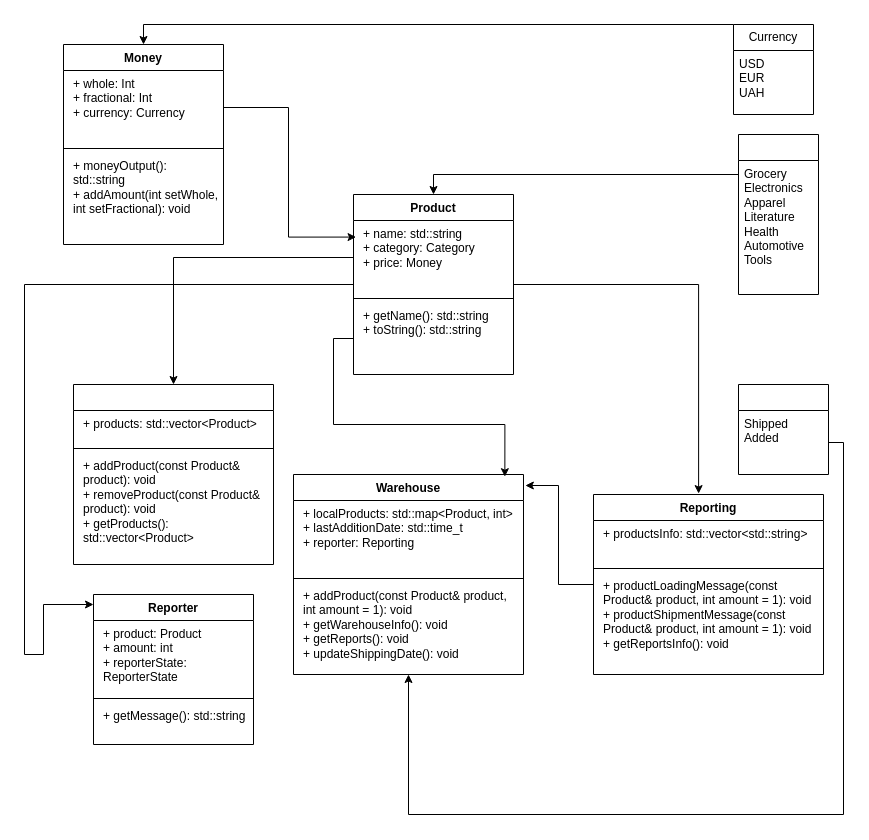
Some shapes in this 869 by 840 pixel diagram are drawn without their labels. The shapes that lost their labels are listed below. From the top down, each one's box as (x1, y1, x2, y2) in pixels, then its label:
(738, 134, 818, 294): Category
(738, 384, 828, 474): ReporterState
(72, 384, 274, 564): Cart
